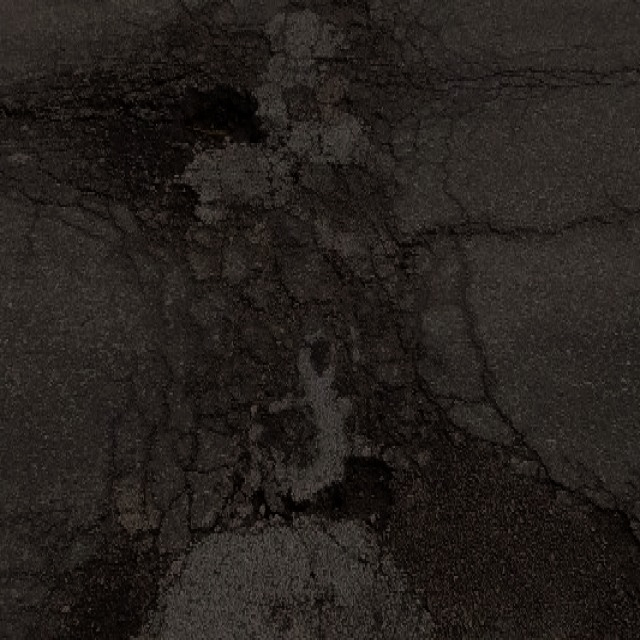Pothole: (178, 78, 266, 150), (329, 450, 396, 536)
